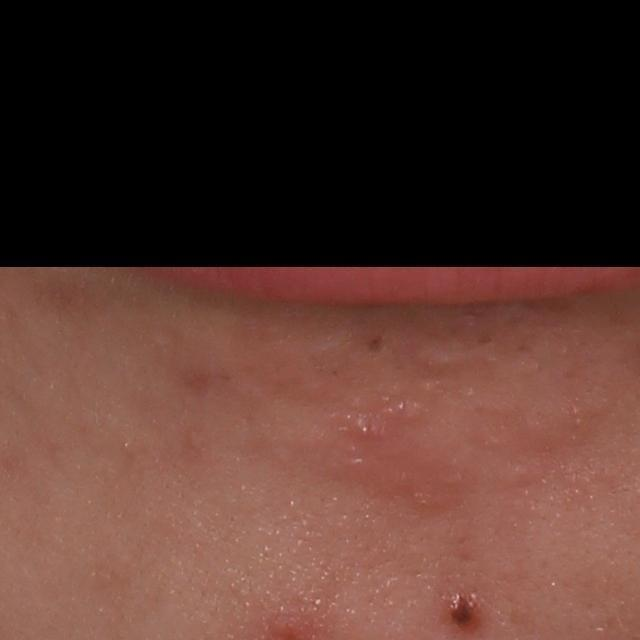hypertrophic_scar: (404, 341, 497, 381)
papule: (348, 411, 376, 439)
